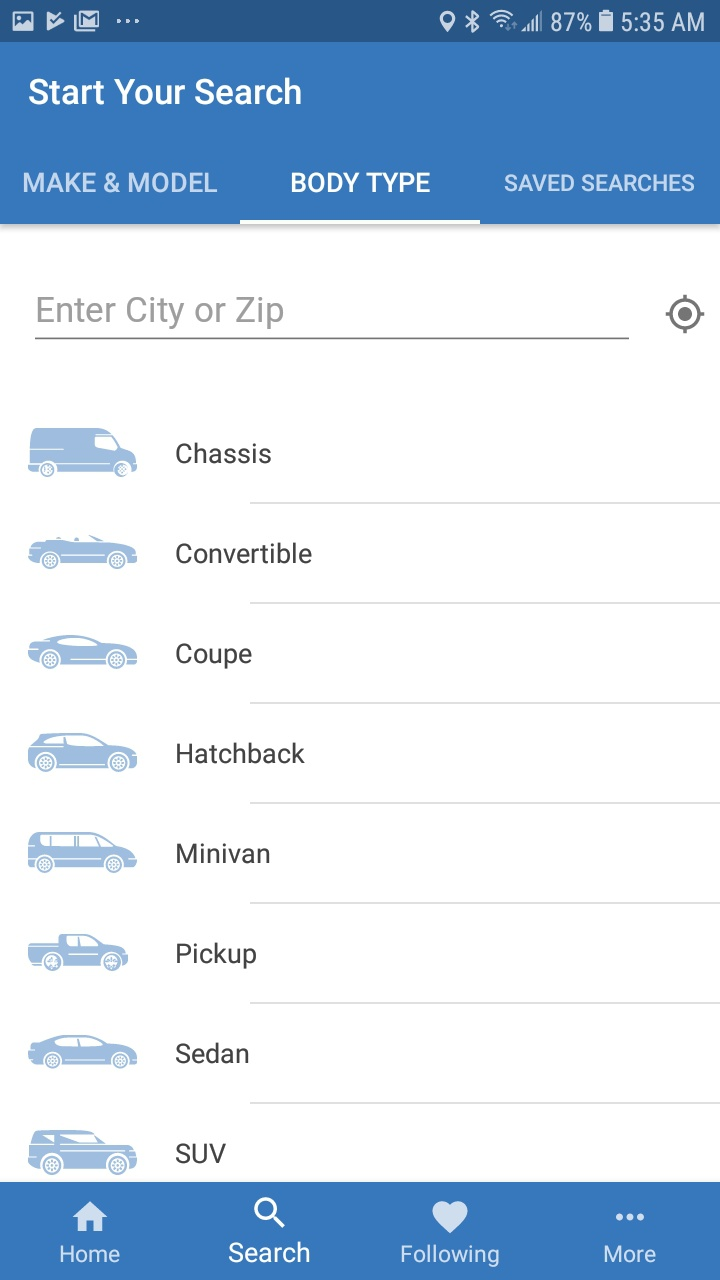EditText: (35, 296, 629, 341)
Icon: (665, 294, 705, 334), (432, 1200, 469, 1234), (73, 1200, 109, 1232), (254, 1196, 287, 1229), (615, 1212, 645, 1222)
Image: (29, 428, 139, 479), (28, 1129, 138, 1176), (29, 831, 139, 874), (28, 732, 138, 773), (28, 534, 139, 570), (29, 634, 139, 670), (28, 933, 129, 972), (29, 1035, 139, 1070)
Text: (38, 296, 284, 330), (29, 78, 302, 107), (24, 172, 219, 194), (504, 174, 695, 194), (176, 542, 313, 565), (291, 172, 431, 194), (177, 742, 306, 765), (401, 1243, 500, 1268), (177, 942, 257, 970), (176, 442, 272, 465), (176, 643, 253, 670), (177, 843, 271, 865), (229, 1240, 311, 1264), (177, 1041, 250, 1064), (60, 1244, 121, 1264), (176, 1142, 227, 1164), (604, 1243, 657, 1263)
UpperTaskBar: (1, 1, 720, 43)
